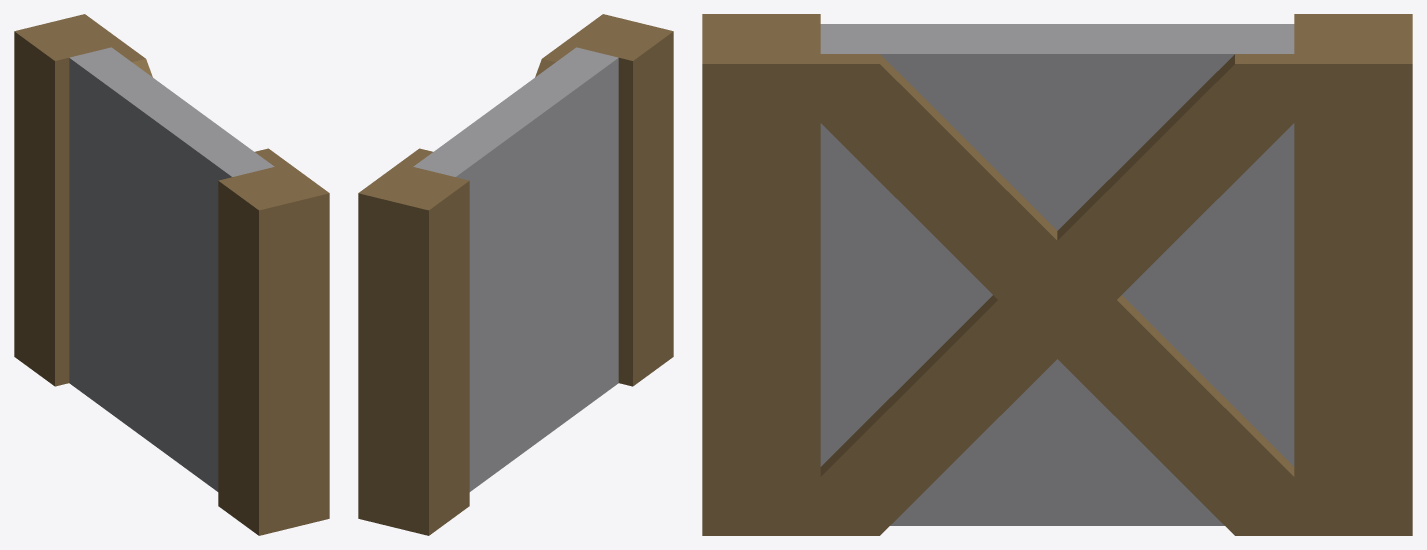
The model's file is Wood_Wall_Double_Cross_01.obj.
3 views of the same model, side by side, from view 1: azimuth 30°, elevation 25°; view 2: azimuth 150°, elevation 25°; view 3: azimuth 270°, elevation 25° (orthographic). The views are drawn at different scales.
Visible parts, largest first — view 1: Mesh1_Wood_Wall_Double_Cross_Model; view 2: Mesh1_Wood_Wall_Double_Cross_Model; view 3: Mesh1_Wood_Wall_Double_Cross_Model.
Boxes of the visible parts, bbox=[...] form: Mesh1_Wood_Wall_Double_Cross_Model: bbox=[14, 14, 329, 535]; Mesh1_Wood_Wall_Double_Cross_Model: bbox=[358, 14, 673, 535]; Mesh1_Wood_Wall_Double_Cross_Model: bbox=[702, 14, 1412, 535].
Size of the model in its own units: 0.5 by 2.2 by 3.
